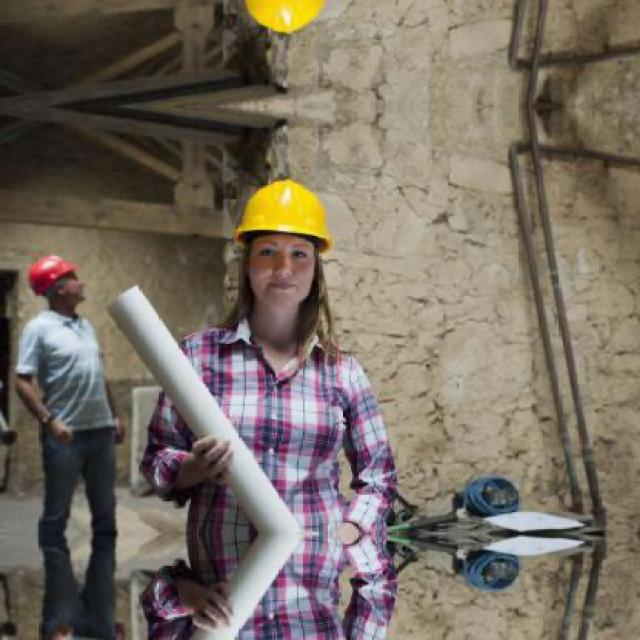con casco: (212, 184, 390, 319), (31, 222, 143, 344)
